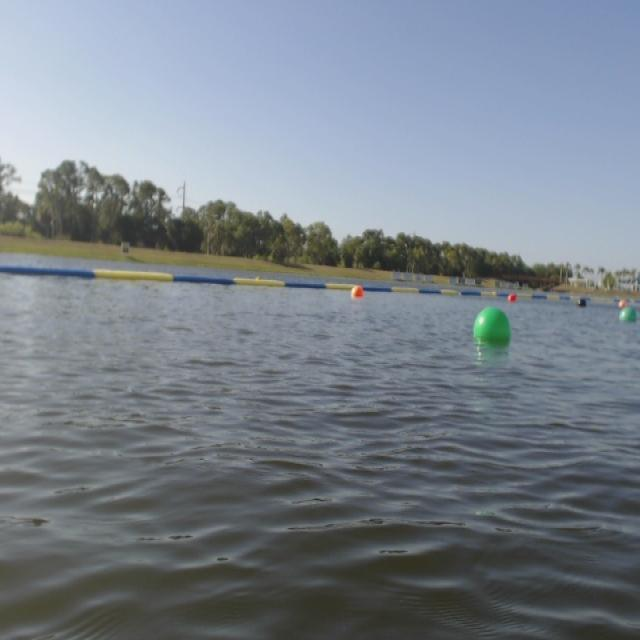Black_Buoy: (575, 299, 586, 308)
Green_Buoy: (470, 312, 510, 346), (620, 306, 638, 324)
Orange__Buoy: (353, 286, 363, 297), (509, 290, 517, 303)
